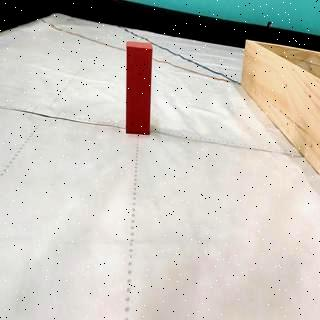redbox: (125, 42, 154, 135)
